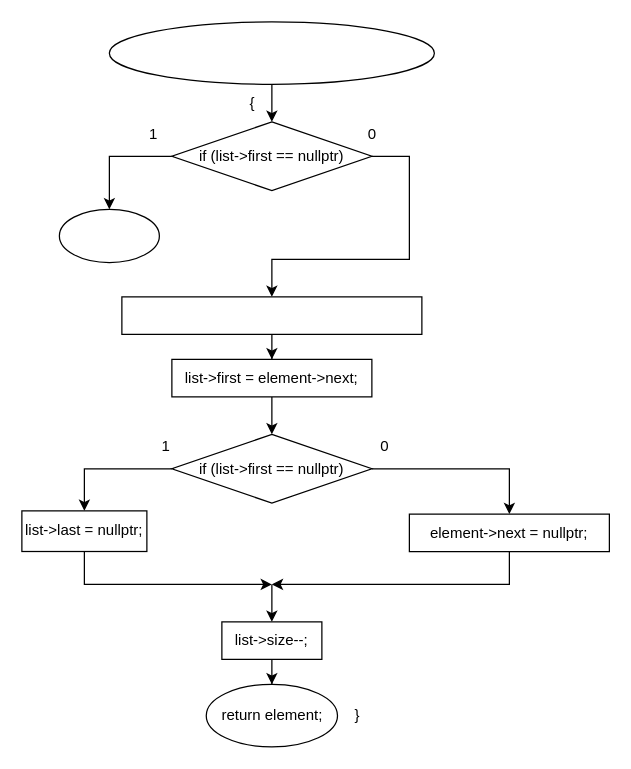
The diagram is 631 pixels wide and 769 high, and some of its shapes have lost their labels. The shapes that lost their labels are listed below. From the top down, each one's box as (x1, y1, x2, y2) in pixels, then its label:
(108, 21, 434, 84): UnidirectionalElement *unilist_pop_first(UnidirectionalList *list)
(58, 208, 159, 262): return nullptr;
(121, 296, 422, 334): UnidirectionalElement *element = list->first;
